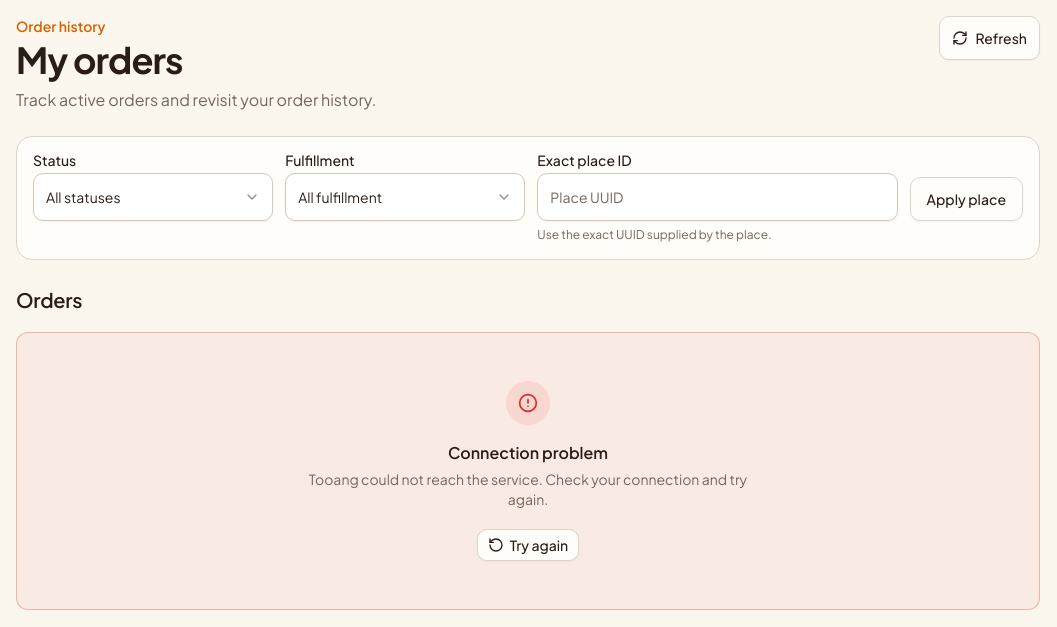
Test: customer orders page › offers an accessible retry after a recoverable list error
Click the button "Try again" at x=528, y=545, box [477,529,579,561]
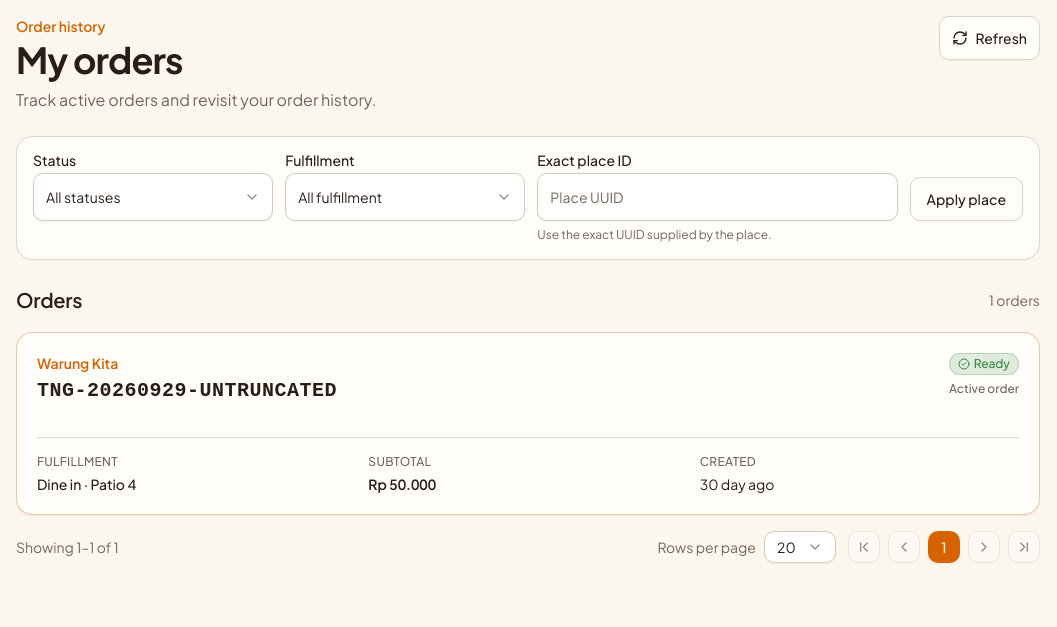
Expected: the heading "Orders" is shown, [16,286,82,314]
Now the link "TNG-20260929-UNTRUNCATED" is shown, box [37,379,337,402]
